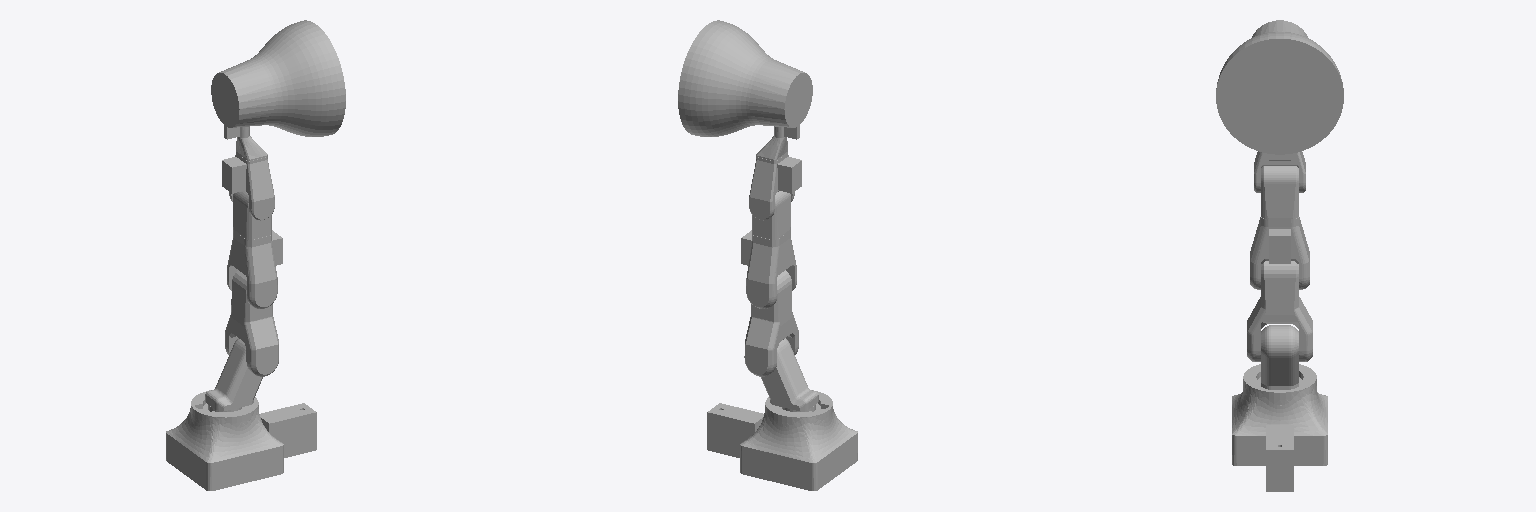
robot.urdf — new_arm:
<?xml version="1.0" encoding="utf-8"?>
<!-- This URDF was automatically created by SolidWorks to URDF Exporter! Originally created by [author] ([email redacted]) 
     Commit Version: 1.5.1-0-g916b5db  Build Version: 1.5.7152.31018
     For more information, please see http://wiki.ros.org/sw_urdf_exporter -->
<robot
  name="new_arm">
  <link
    name="base_link">
    <inertial>
      <origin
        xyz="0.0103670441692716 -4.89047614708055E-08 -0.0507763781520769"
        rpy="0 0 0" />
      <mass
        value="0.78639641308392" />
      <inertia
        ixx="0.000895494113504485"
        ixy="-1.7656978596969E-09"
        ixz="6.0141491552568E-05"
        iyy="0.00152065890412314"
        iyz="6.32161180918768E-10"
        izz="0.00171422853342945" />
    </inertial>
    <visual>
      <origin
        xyz="0 0 0"
        rpy="0 0 0" />
      <geometry>
        <mesh
          filename="package://new_arm/meshes/base_link.STL" />
      </geometry>
      <material
        name="">
        <color
          rgba="0.745098039215686 0.745098039215686 0.745098039215686 1" />
      </material>
    </visual>
    <collision>
      <origin
        xyz="0 0 0"
        rpy="0 0 0" />
      <geometry>
        <mesh
          filename="package://new_arm/meshes/base_link.STL" />
      </geometry>
    </collision>
  </link>
  <link
    name="link_1">
    <inertial>
      <origin
        xyz="0.0211197744268822 -1.16994804486573E-08 0.0292101272338449"
        rpy="0 0 0" />
      <mass
        value="0.121759656689666" />
      <inertia
        ixx="7.38485956533475E-05"
        ixy="-1.53219791509635E-11"
        ixz="-3.02831795140831E-05"
        iyy="9.56535793858089E-05"
        iyz="-2.3553581794951E-11"
        izz="5.1643210241122E-05" />
    </inertial>
    <visual>
      <origin
        xyz="0 0 0"
        rpy="0 0 0" />
      <geometry>
        <mesh
          filename="package://new_arm/meshes/link_1.STL" />
      </geometry>
      <material
        name="">
        <color
          rgba="0.745098039215686 0.745098039215686 0.745098039215686 1" />
      </material>
    </visual>
    <collision>
      <origin
        xyz="0 0 0"
        rpy="0 0 0" />
      <geometry>
        <mesh
          filename="package://new_arm/meshes/link_1.STL" />
      </geometry>
    </collision>
  </link>
  <joint
    name="joint_1"
    type="revolute">
    <origin
      xyz="0 0 0"
      rpy="0 0 0" />
    <parent
      link="base_link" />
    <child
      link="link_1" />
    <axis
      xyz="0 0 -1" />
    <limit
      lower="-3.14"
      upper="3.14"
      effort="0"
      velocity="0" />
  </joint>
  <link
    name="link_2">
    <inertial>
      <origin
        xyz="-0.000541025630608628 5.56776925486378E-05 0.0415387428466069"
        rpy="0 0 0" />
      <mass
        value="0.164059961594958" />
      <inertia
        ixx="0.00021226381686105"
        ixy="-4.93600634781873E-09"
        ixz="-1.38904365806391E-06"
        iyy="0.00017369357579552"
        iyz="3.79435727355565E-07"
        izz="7.7824356818603E-05" />
    </inertial>
    <visual>
      <origin
        xyz="0 0 0"
        rpy="0 0 0" />
      <geometry>
        <mesh
          filename="package://new_arm/meshes/link_2.STL" />
      </geometry>
      <material
        name="">
        <color
          rgba="0.745098039215686 0.745098039215686 0.745098039215686 1" />
      </material>
    </visual>
    <collision>
      <origin
        xyz="0 0 0"
        rpy="0 0 0" />
      <geometry>
        <mesh
          filename="package://new_arm/meshes/link_2.STL" />
      </geometry>
    </collision>
  </link>
  <joint
    name="joint_2"
    type="revolute">
    <origin
      xyz="0.037707 0 0.057666"
      rpy="0 0 0" />
    <parent
      link="link_1" />
    <child
      link="link_2" />
    <axis
      xyz="0 1 0" />
    <limit
      lower="-3.14"
      upper="3.14"
      effort="0"
      velocity="0" />
  </joint>
  <link
    name="link_3">
    <inertial>
      <origin
        xyz="0.00292187305386705 -6.85363283402404E-05 0.0331811677846475"
        rpy="0 0 0" />
      <mass
        value="0.133281294923395" />
      <inertia
        ixx="0.000103614550294055"
        ixy="-2.66954052688121E-08"
        ixz="-3.10738396849019E-06"
        iyy="8.3610745728922E-05"
        iyz="-3.03094614458102E-07"
        izz="6.37142105116064E-05" />
    </inertial>
    <visual>
      <origin
        xyz="0 0 0"
        rpy="0 0 0" />
      <geometry>
        <mesh
          filename="package://new_arm/meshes/link_3.STL" />
      </geometry>
      <material
        name="">
        <color
          rgba="0.745098039215686 0.745098039215686 0.745098039215686 1" />
      </material>
    </visual>
    <collision>
      <origin
        xyz="0 0 0"
        rpy="0 0 0" />
      <geometry>
        <mesh
          filename="package://new_arm/meshes/link_3.STL" />
      </geometry>
    </collision>
  </link>
  <joint
    name="joint_3"
    type="revolute">
    <origin
      xyz="0 -5E-05 0.087"
      rpy="0 0 0" />
    <parent
      link="link_2" />
    <child
      link="link_3" />
    <axis
      xyz="0 1 0" />
    <limit
      lower="-3.14"
      upper="3.14"
      effort="0"
      velocity="0" />
  </joint>
  <link
    name="link_4">
    <inertial>
      <origin
        xyz="6.93889390390723E-18 -1.6073686164627E-13 0.0230502436889772"
        rpy="0 0 0" />
      <mass
        value="0.0616446065967099" />
      <inertia
        ixx="2.35629768781271E-05"
        ixy="2.06327010683005E-10"
        ixz="-5.89431985267144E-22"
        iyy="2.16264848632999E-05"
        iyz="2.66653773448299E-16"
        izz="1.4527300665041E-05" />
    </inertial>
    <visual>
      <origin
        xyz="0 0 0"
        rpy="0 0 0" />
      <geometry>
        <mesh
          filename="package://new_arm/meshes/link_4.STL" />
      </geometry>
      <material
        name="">
        <color
          rgba="0.745098039215686 0.745098039215686 0.745098039215686 1" />
      </material>
    </visual>
    <collision>
      <origin
        xyz="0 0 0"
        rpy="0 0 0" />
      <geometry>
        <mesh
          filename="package://new_arm/meshes/link_4.STL" />
      </geometry>
    </collision>
  </link>
  <joint
    name="joint_4"
    type="revolute">
    <origin
      xyz="0 0 0.0712"
      rpy="0 0 0" />
    <parent
      link="link_3" />
    <child
      link="link_4" />
    <axis
      xyz="0 0 1" />
    <limit
      lower="-3.14"
      upper="3.14"
      effort="0"
      velocity="0" />
  </joint>
  <link
    name="link_5">
    <inertial>
      <origin
        xyz="-0.00540369889878292 0.000111388474332554 0.0298563406822311"
        rpy="0 0 0" />
      <mass
        value="0.082003985184141" />
      <inertia
        ixx="4.25538356064228E-05"
        ixy="-4.93618679407707E-08"
        ixz="3.44134827995119E-06"
        iyy="3.79923819156701E-05"
        iyz="2.72721651106619E-07"
        izz="3.14025133057499E-05" />
    </inertial>
    <visual>
      <origin
        xyz="0 0 0"
        rpy="0 0 0" />
      <geometry>
        <mesh
          filename="package://new_arm/meshes/link_5.STL" />
      </geometry>
      <material
        name="">
        <color
          rgba="0.745098039215686 0.745098039215686 0.745098039215686 1" />
      </material>
    </visual>
    <collision>
      <origin
        xyz="0 0 0"
        rpy="0 0 0" />
      <geometry>
        <mesh
          filename="package://new_arm/meshes/link_5.STL" />
      </geometry>
    </collision>
  </link>
  <joint
    name="joint_5"
    type="revolute">
    <origin
      xyz="0 0 0.0415"
      rpy="0 0 0" />
    <parent
      link="link_4" />
    <child
      link="link_5" />
    <axis
      xyz="0 1 0" />
    <limit
      lower="-3.14"
      upper="3.14"
      effort="0"
      velocity="0" />
  </joint>
  <link
    name="EE_link">
    <inertial>
      <origin
        xyz="0.042146146986961 -4.95936236902825E-09 0.0778740689030945"
        rpy="0 0 0" />
      <mass
        value="1.07322722870269" />
      <inertia
        ixx="0.00185339937127512"
        ixy="-5.12364747031248E-09"
        ixz="-5.92986358897838E-05"
        iyy="0.00219441701048786"
        iyz="-3.14292637718647E-10"
        izz="0.00211751149042562" />
    </inertial>
    <visual>
      <origin
        xyz="0 0 0"
        rpy="0 0 0" />
      <geometry>
        <mesh
          filename="package://new_arm/meshes/EE_link.STL" />
      </geometry>
      <material
        name="">
        <color
          rgba="0.745098039215686 0.745098039215686 0.745098039215686 1" />
      </material>
    </visual>
    <collision>
      <origin
        xyz="0 0 0"
        rpy="0 0 0" />
      <geometry>
        <mesh
          filename="package://new_arm/meshes/EE_link.STL" />
      </geometry>
    </collision>
  </link>
  <joint
    name="joint_6"
    type="revolute">
    <origin
      xyz="0 0 0.05975"
      rpy="0 0 0" />
    <parent
      link="link_5" />
    <child
      link="EE_link" />
    <axis
      xyz="0 0 1" />
    <limit
      lower="-3.14"
      upper="3.14"
      effort="0"
      velocity="0" />
  </joint>
</robot>

--- Facts derived from the render (not from the file) ---
The picture shows the robot from 3 angles, left to right: view 1: azimuth 30°, elevation 25°; view 2: azimuth 150°, elevation 25°; view 3: azimuth 270°, elevation 25°; orthographic projection.
Model new_arm with 7 links and 6 joints (6 revolute), rooted at base_link, posed all joints at 0.
Links seen in each view (by area): view 1: EE_link, base_link, link_2, link_3, link_5, link_1, link_4; view 2: EE_link, base_link, link_2, link_3, link_5, link_1, link_4; view 3: EE_link, base_link, link_2, link_3, link_1, link_4, link_5.
Boxes of the visible links, x1,y1,x2,y2 form: EE_link: (211, 20, 345, 160); base_link: (166, 390, 316, 490); link_2: (225, 270, 278, 376); link_3: (227, 230, 282, 308); link_5: (222, 153, 274, 220); link_1: (205, 338, 262, 411); link_4: (233, 191, 271, 239); EE_link: (678, 20, 812, 160); base_link: (707, 390, 857, 490); link_2: (744, 270, 798, 376); link_3: (741, 230, 796, 308); link_5: (749, 153, 801, 220); link_1: (761, 338, 818, 411); link_4: (752, 191, 790, 239); EE_link: (1216, 20, 1343, 154); base_link: (1232, 364, 1327, 491); link_2: (1247, 261, 1312, 361); link_3: (1250, 217, 1309, 289); link_1: (1261, 325, 1298, 389); link_4: (1261, 166, 1298, 218); link_5: (1254, 151, 1305, 192).
Size in the robot's own frame: 0.1782 by 0.1399 by 0.5495 metres.
Meshes: 7 distinct files referenced, 7 mesh visuals loaded (7 binary STL).